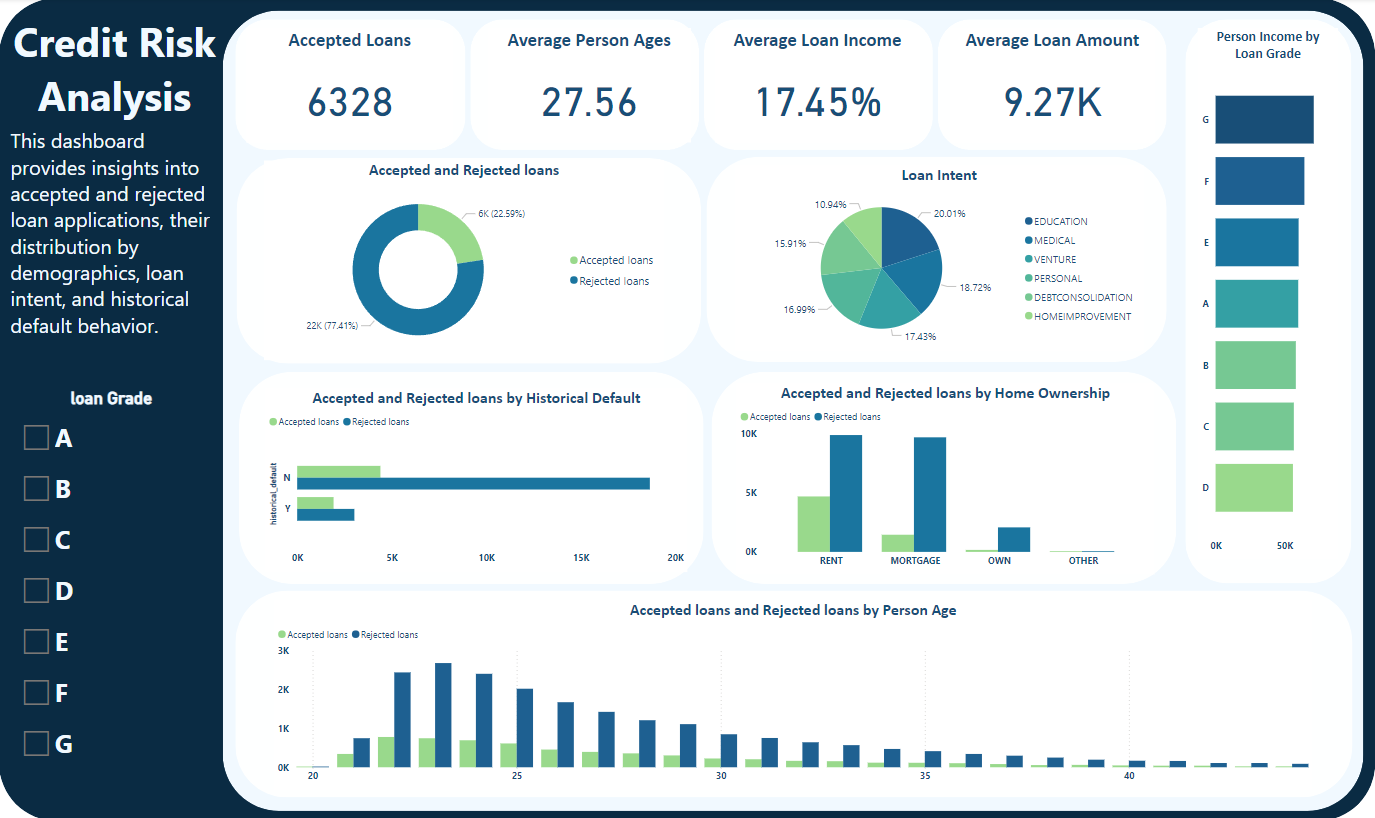

Layout of this report page (visuals, bound fields, positions):
{"tool":"powerbi","page":{"name":"Final Dashboard","canvas":[1836,1098],"ordinal":0},"visuals":[{"type":"shape","box":[0,0,1836.4,1098.2],"z":0},{"type":"shape","box":[298,16,1522,1068],"z":1000},{"type":"shape","box":[314.5,790.9,1490.9,276.4],"z":2000},{"type":"shape","box":[314.5,28.2,307.3,174.5],"z":3000},{"type":"shape","box":[944,212,614,274],"z":4000},{"type":"shape","box":[628.5,28.2,305.5,174.5],"z":5000},{"type":"shape","box":[940.6,28.2,305.5,174.5],"z":6000},{"type":"shape","box":[316.4,212.7,620,274.5],"z":7000},{"type":"shape","box":[320,498.9,620,283.3],"z":8000},{"type":"shape","box":[951.1,498.9,620,283.3],"z":9000},{"type":"shape","box":[1252.7,28.2,305.5,174.5],"z":10000},{"type":"shape","box":[1583.6,29.1,221.8,752.7],"z":11000},{"type":"card","title":"Average Person Ages","fields":{"Values":["Avg(clean_credit_risk1.person_age)"]},"box":[652.7,40,270.9,152.7],"z":12000},{"type":"card","title":"Average Loan Amount","fields":{"Values":["Avg(clean_credit_risk1.loan_amnt)"]},"box":[1269.1,40,272.7,152.7],"z":13000},{"type":"card","title":"Average Loan Income","fields":{"Values":["Avg(clean_credit_risk1.loan_percent_income)"]},"box":[956.4,40,272.7,152.7],"z":14000},{"type":"clusteredColumnChart","title":"Accepted loans and Rejected loans by Person Age","fields":{"Y":["A measurable table.Accepted loans","A measurable table.Rejected loans"],"Category":["clean_credit_risk1.person_age"]},"box":[367.3,803.6,1385.5,252.7],"z":15000},{"type":"donutChart","title":"Accepted and Rejected loans","fields":{"Y":["A measurable table.Accepted loans","A measurable table.Denied loans"]},"box":[354.4,217.6,533.8,266.2],"z":16000},{"type":"clusteredBarChart","title":"Accepted and Rejected loans by Historical Default","fields":{"Category":["clean_credit_risk1.historical_default"],"Y":["A measurable table.Accepted loans","A measurable table.Denied loans"]},"box":[354.4,520,563.3,245.6],"z":17000},{"type":"clusteredColumnChart","title":"Accepted and Rejected loans by Home Ownership","fields":{"Category":["clean_credit_risk1.person_home_ownership"],"Y":["A measurable table.Accepted loans","A measurable table.Denied loans"]},"box":[983.3,513.3,557.8,255.6],"z":18000},{"type":"barChart","title":"Person Income by Loan Grade","fields":{"Category":["clean_credit_risk1.loan_grade"],"Y":["Avg(clean_credit_risk1.person_income)"]},"box":[1600,40,187.3,709.1],"z":19000},{"type":"slicer","title":"loan Grade","fields":{"Values":["clean_credit_risk1.loan_grade"]},"box":[20,520,260,512],"z":21000},{"type":"card","title":"Accepted Loans","fields":{"Values":["A measurable table.Accepted loans"]},"box":[330.8,40,275.4,153.1],"z":22000},{"type":"pieChart","title":"Loan Intent","fields":{"Category":["clean_credit_risk1.loan_intent"],"Y":["CountNonNull(clean_credit_risk1.loan_intent)"]},"box":[982.1,223.2,544.6,248.2],"z":23000},{"type":"textbox","box":[10,166,280,320],"z":24000},{"type":"textbox","box":[10,16,288,210],"z":24001}]}

Visuals, with their boxes in screenshot pixels (x1, y1, x2, y2), scaled from the page's 1836x1098 canvas onto the 1375x818 screenshot:
shape: rect(0, 0, 1374, 817)
shape: rect(223, 12, 1363, 808)
shape: rect(236, 589, 1352, 795)
shape: rect(236, 21, 466, 151)
shape: rect(707, 158, 1167, 362)
shape: rect(471, 21, 699, 151)
shape: rect(704, 21, 933, 151)
shape: rect(237, 158, 701, 363)
shape: rect(240, 372, 704, 583)
shape: rect(712, 372, 1177, 583)
shape: rect(938, 21, 1167, 151)
shape: rect(1186, 22, 1352, 582)
"Average Person Ages" card: rect(489, 30, 692, 144)
"Average Loan Amount" card: rect(950, 30, 1155, 144)
"Average Loan Income" card: rect(716, 30, 920, 144)
"Accepted loans and Rejected loans by Person Age" clusteredColumnChart: rect(275, 599, 1313, 787)
"Accepted and Rejected loans" donutChart: rect(265, 162, 665, 360)
"Accepted and Rejected loans by Historical Default" clusteredBarChart: rect(265, 387, 687, 570)
"Accepted and Rejected loans by Home Ownership" clusteredColumnChart: rect(736, 382, 1154, 573)
"Person Income by Loan Grade" barChart: rect(1198, 30, 1339, 558)
"loan Grade" slicer: rect(15, 387, 210, 769)
"Accepted Loans" card: rect(248, 30, 454, 144)
"Loan Intent" pieChart: rect(736, 166, 1143, 351)
textbox: rect(7, 124, 217, 362)
textbox: rect(7, 12, 223, 168)
